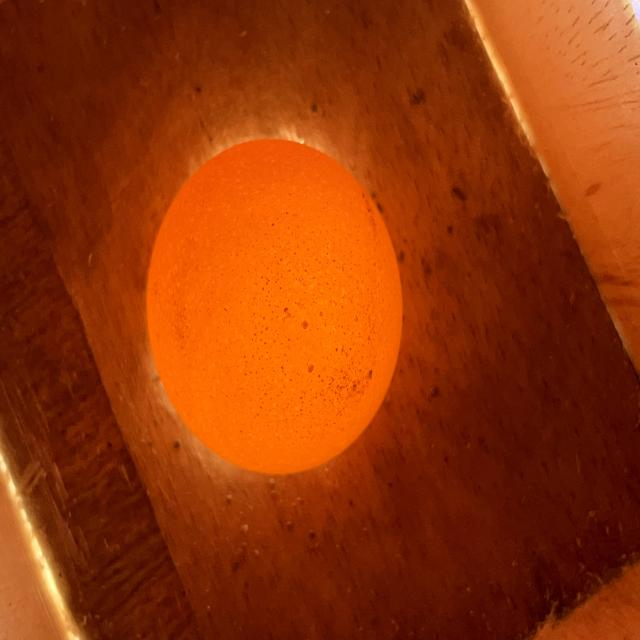infertile: (148, 138, 403, 473)
